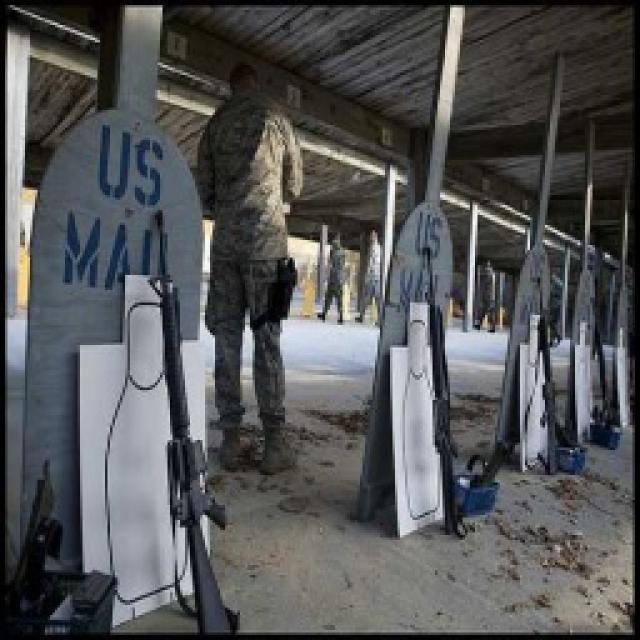long weapon: (120, 217, 259, 633)
